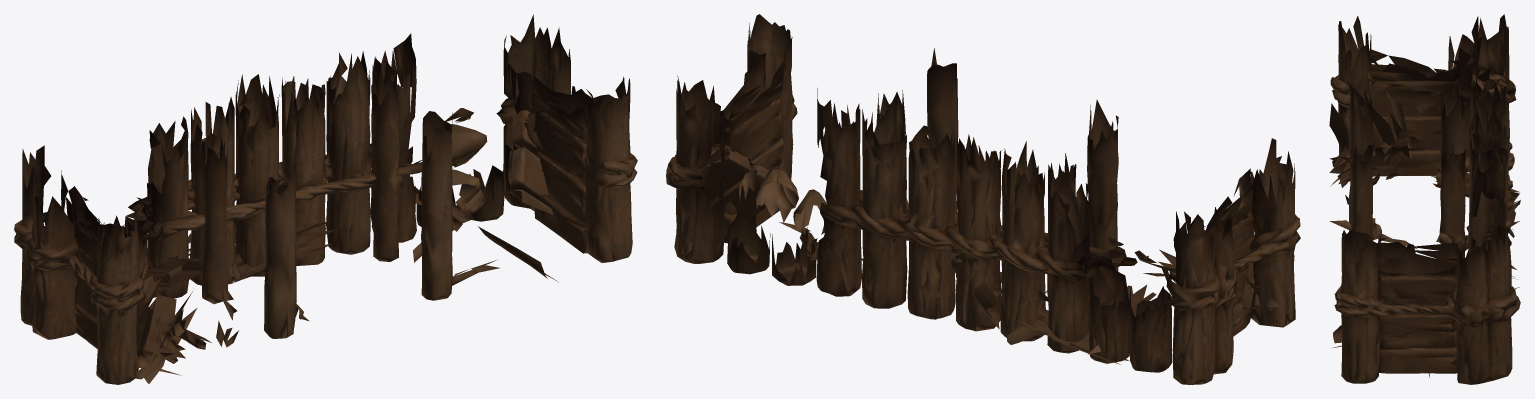
The model's file is wall_small_destroyed.glb.
The picture shows the model from 3 angles, left to right: view 1: azimuth 30°, elevation 25°; view 2: azimuth 150°, elevation 25°; view 3: azimuth 270°, elevation 25°; orthographic projection. The views are drawn at different scales.
Size of the model in its own units: 1.9 by 0.6779 by 0.6607.
Materials: 1 (1 with a texture image).
